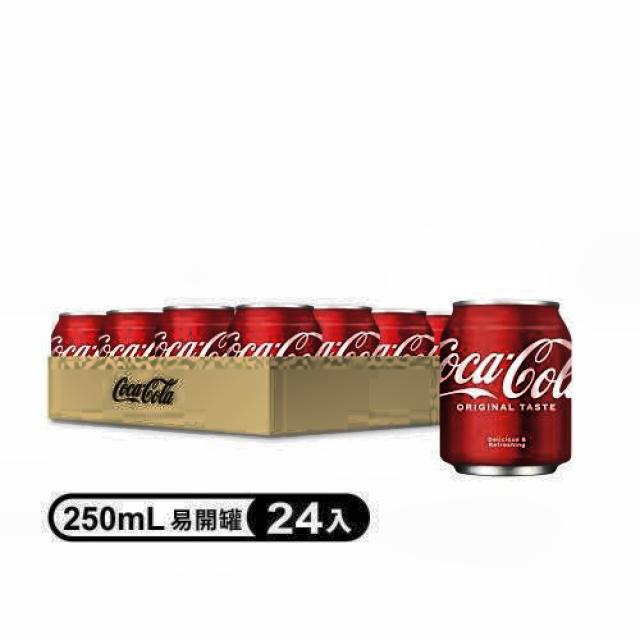can: (436, 292, 578, 486), (233, 300, 326, 364), (310, 298, 385, 370), (160, 300, 240, 364), (45, 306, 115, 368), (366, 304, 439, 363), (106, 303, 170, 361)
